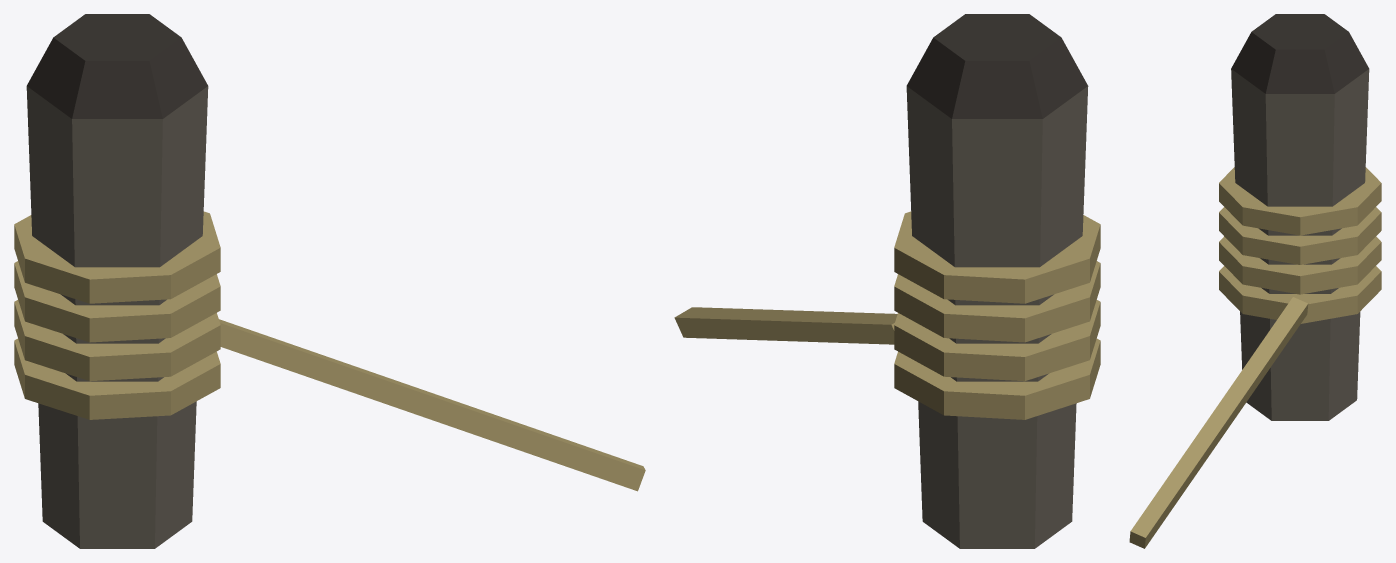
Rendered from a3h_rope_post.glb.
3 views of the same model, side by side, from view 1: azimuth 30°, elevation 25°; view 2: azimuth 150°, elevation 25°; view 3: azimuth 270°, elevation 25° (orthographic). The views are drawn at different scales.
Visible parts, largest first — view 1: a3h_rope_post; view 2: a3h_rope_post; view 3: a3h_rope_post.
Boxes of the visible parts, bbox=[...] form: a3h_rope_post: bbox=[14, 14, 645, 548]; a3h_rope_post: bbox=[674, 14, 1100, 548]; a3h_rope_post: bbox=[1129, 14, 1381, 548].
Size of the model in its own units: 1.12 by 1 by 0.62.
